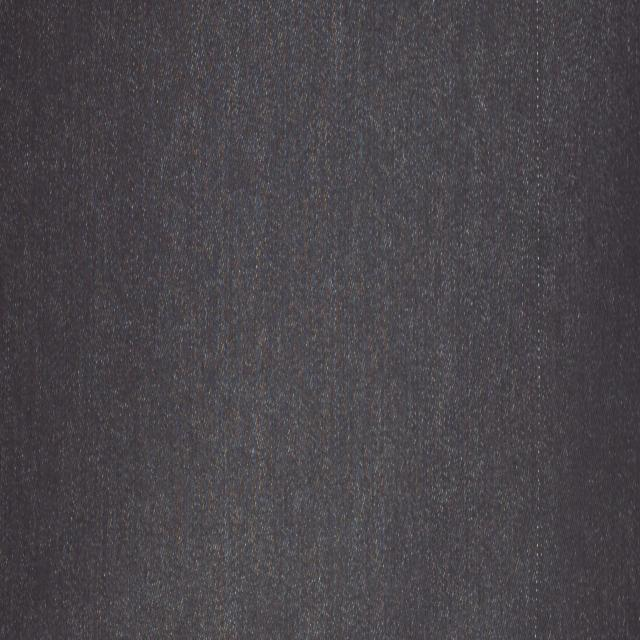pulled_or_thick_thread: (534, 2, 543, 639)
